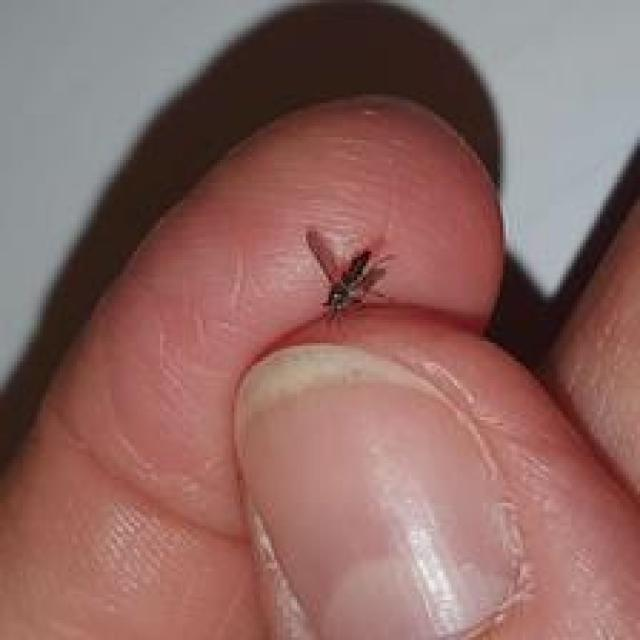Aedes albopictus: (303, 227, 394, 327)
